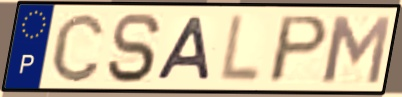A: (153, 15, 214, 83)
C: (48, 10, 107, 85)
L: (215, 12, 264, 86)
M: (321, 13, 395, 86)
P: (264, 13, 332, 86)
S: (104, 10, 164, 85)
